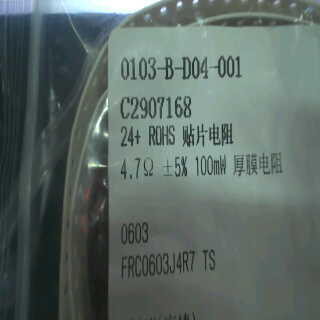4.7R: (119, 152, 156, 184)
